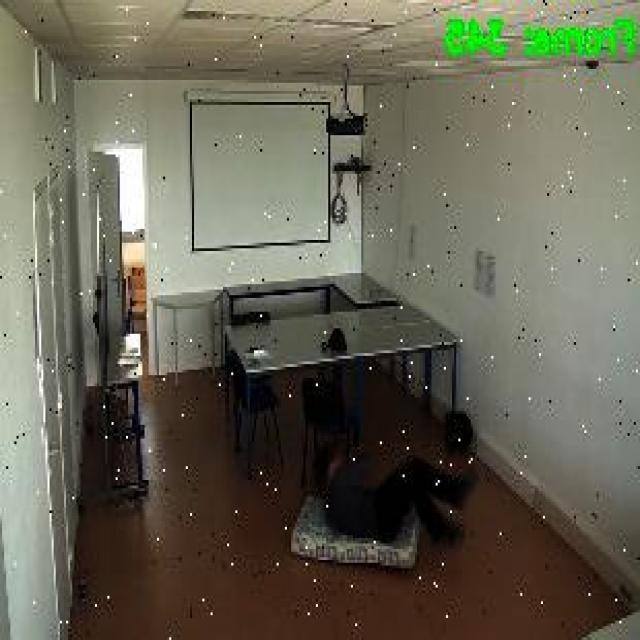fall: (306, 438, 478, 546)
